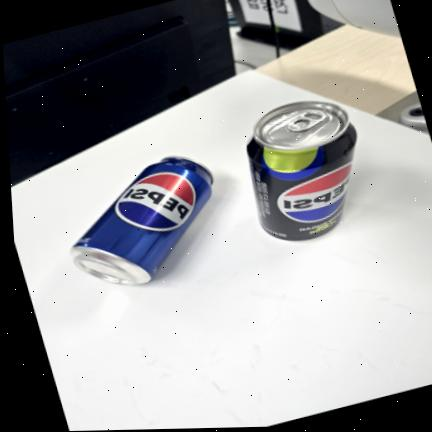can_pepsi: (73, 155, 216, 283)
can_pepsi_zero: (244, 98, 356, 240)
